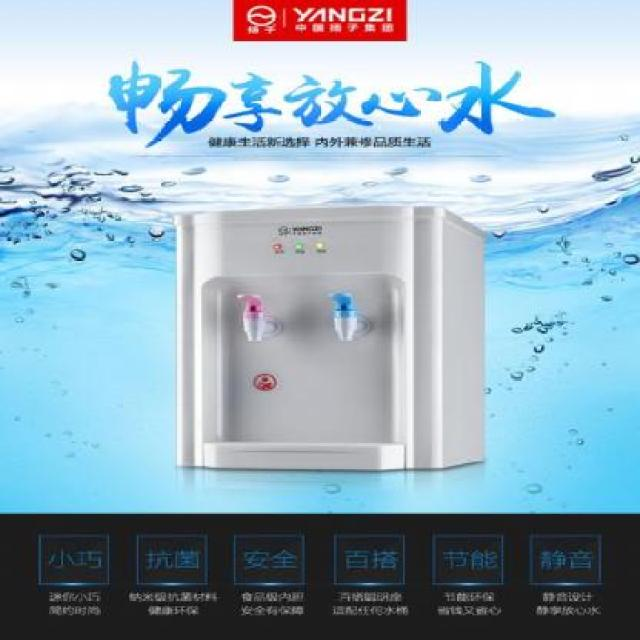cooler: (170, 200, 498, 473)
